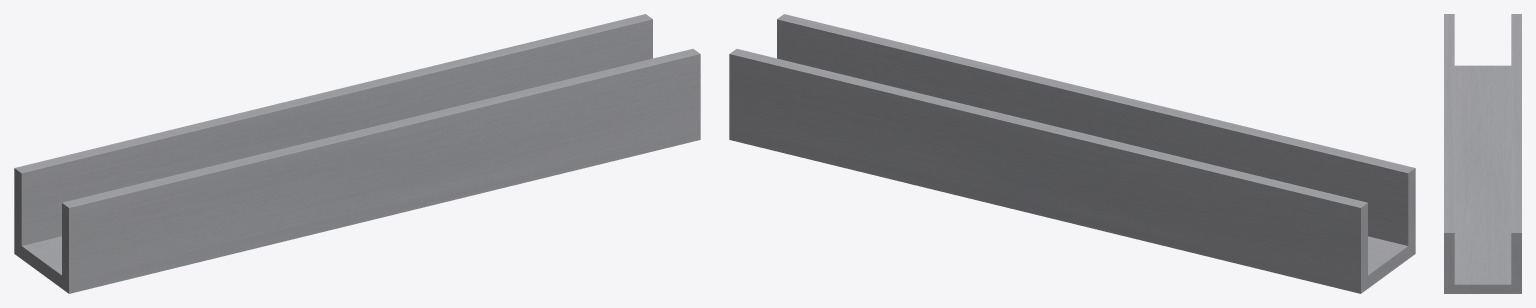
Rendered from Gutter.fbx.
The picture shows the model from 3 angles, left to right: view 1: azimuth 30°, elevation 25°; view 2: azimuth 150°, elevation 25°; view 3: azimuth 270°, elevation 25°; orthographic projection. The views are drawn at different scales.
Visible parts, largest first — view 1: Gutter; view 2: Gutter; view 3: Gutter.
Part boxes in pixels (x1,y1,x2,y2): Gutter: (14,14,700,293); Gutter: (729,14,1415,293); Gutter: (1444,14,1521,293).
Bounding box in the file's own units: 1 × 0.13 × 0.15.
